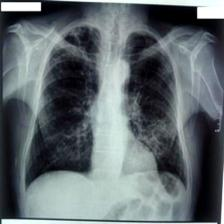tuberculosis: (18, 17, 194, 199)
